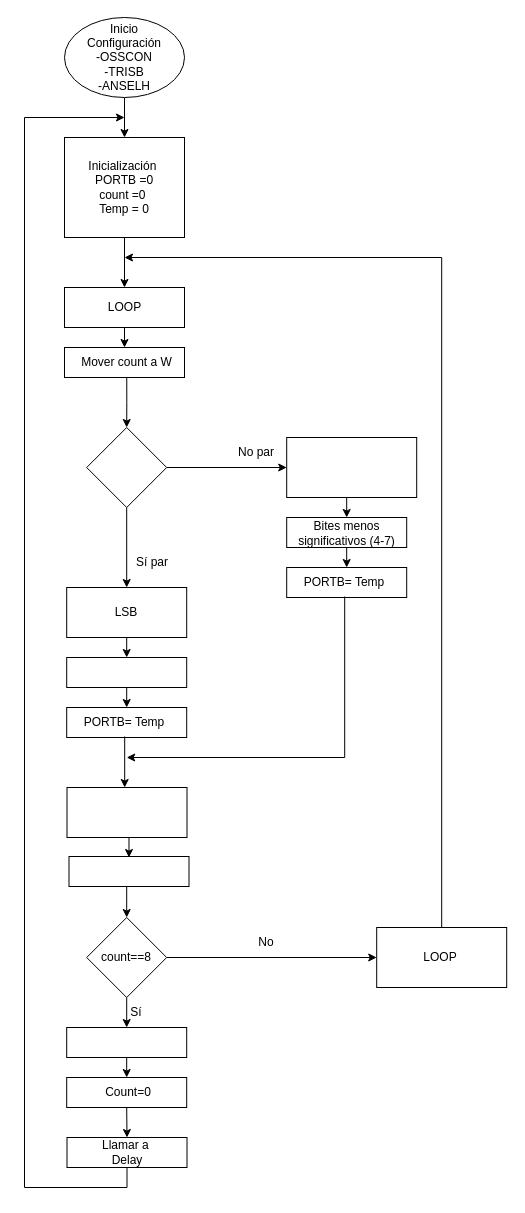
Some shapes in this 525 by 1213 pixel diagram are drawn without their labels. Each missing label, with the centre of its shape:
"Bites menos significativos (0-3)" belongs at (126,672).
"CONTINUAR" belongs at (126,812).
"count = par-impar" belongs at (126,467).
"Incrementar count" belongs at (128,871).
"MSB" belongs at (351,467).
"Reiniciar" belongs at (126,1042).
